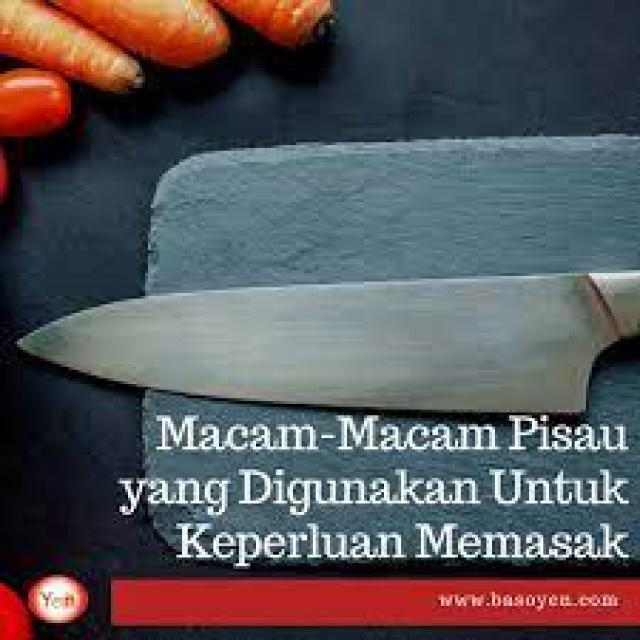Knife: (5, 205, 640, 463)
